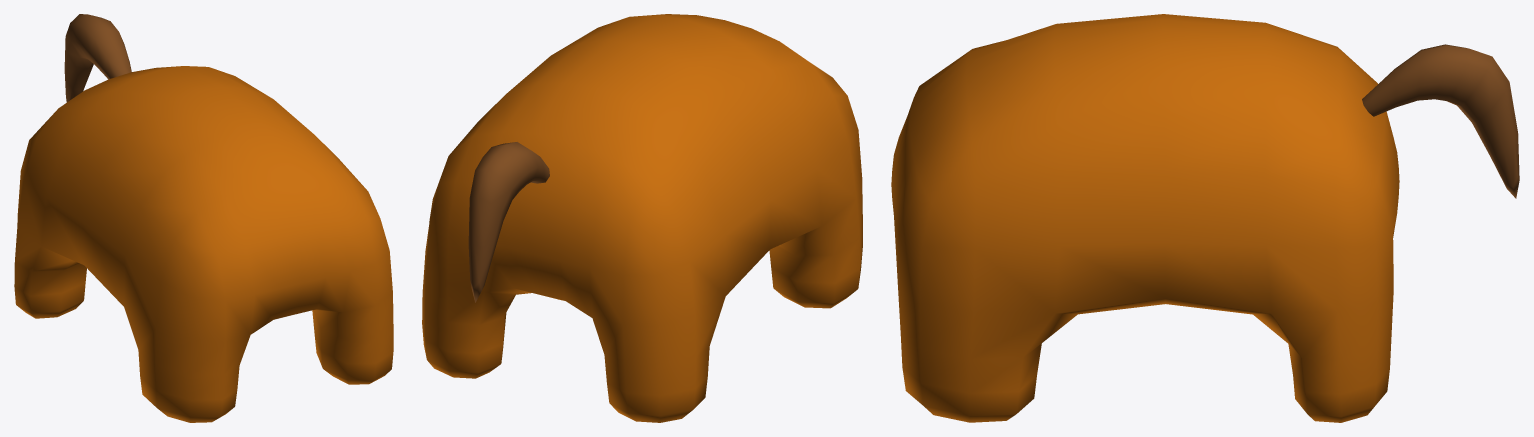
Rendered from horsebody.fbx.
3 views of the same model, side by side, from view 1: azimuth 30°, elevation 25°; view 2: azimuth 150°, elevation 25°; view 3: azimuth 270°, elevation 25° (orthographic). The views are drawn at different scales.
Parts seen in each view (by area): view 1: horse_body; view 2: horse_body; view 3: horse_body.
Boxes of the visible parts, box(x1,y1,x2,y2) form: horse_body: box(14, 14, 393, 422); horse_body: box(422, 14, 862, 422); horse_body: box(891, 14, 1519, 422).
Size of the model in its own units: 37.53 by 38.05 by 66.22.
